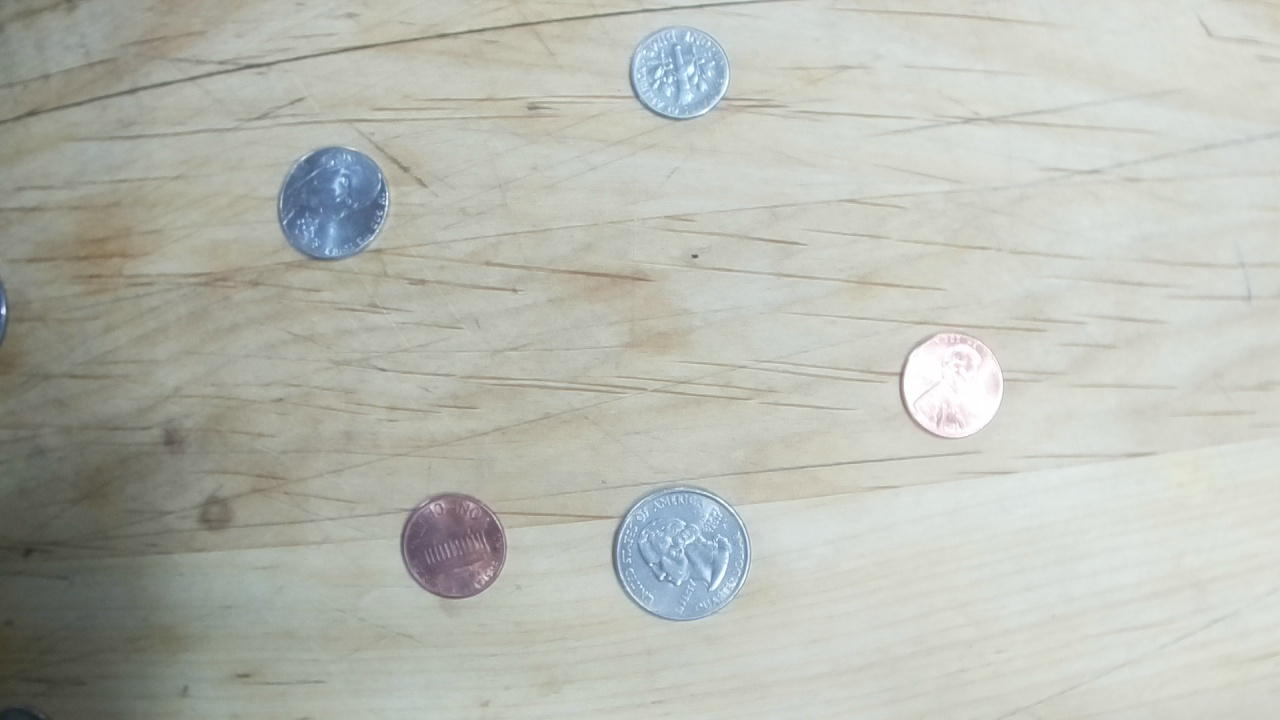dime: (628, 24, 728, 122)
nickel: (275, 146, 391, 261)
penny: (899, 330, 1004, 440), (402, 491, 507, 598)
quarter: (611, 485, 751, 621)
